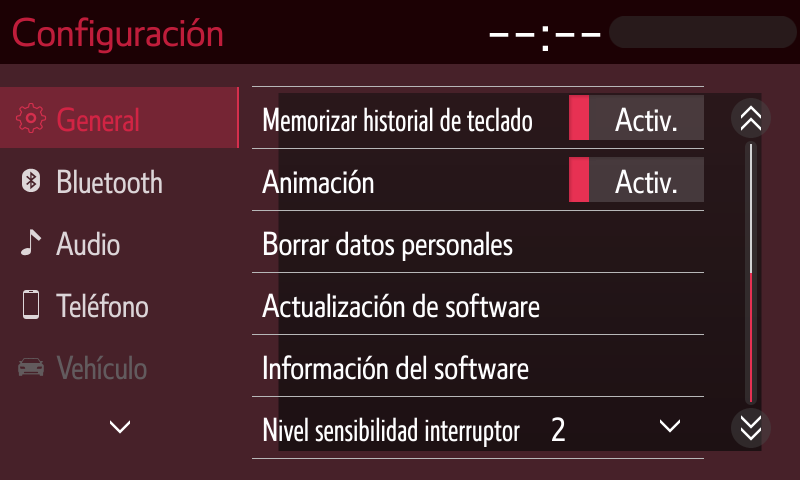touchPart: (249, 142, 703, 221), (247, 329, 708, 406), (250, 208, 714, 279), (247, 271, 710, 340), (250, 83, 705, 153), (242, 396, 707, 462), (19, 281, 156, 329), (18, 164, 170, 204), (16, 227, 136, 258), (734, 100, 775, 140), (730, 405, 771, 445), (101, 413, 143, 438)
untouchPart: (1, 83, 244, 147), (480, 6, 795, 51), (5, 9, 233, 50), (17, 349, 155, 387)
